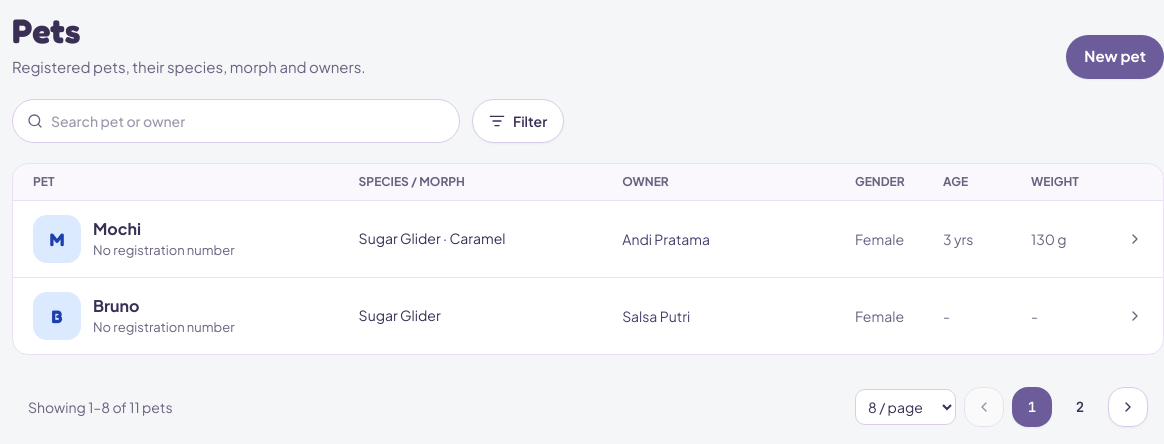
it: PetsPage › explains an empty search instead of offering to add a pet
expect the link "Mochi" is shown: met, box [13,200,1163,278]
In the search field labelled "Search pet or owner": (248, 120) [51,110,445,130], type "zzz"
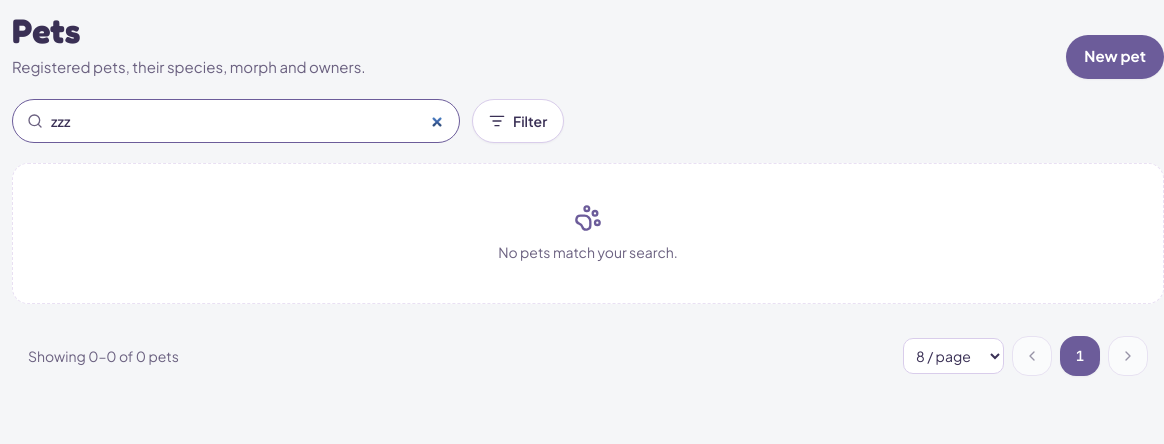
expect the text "No pets match your search." is shown: met, box [498,242,678,262]
